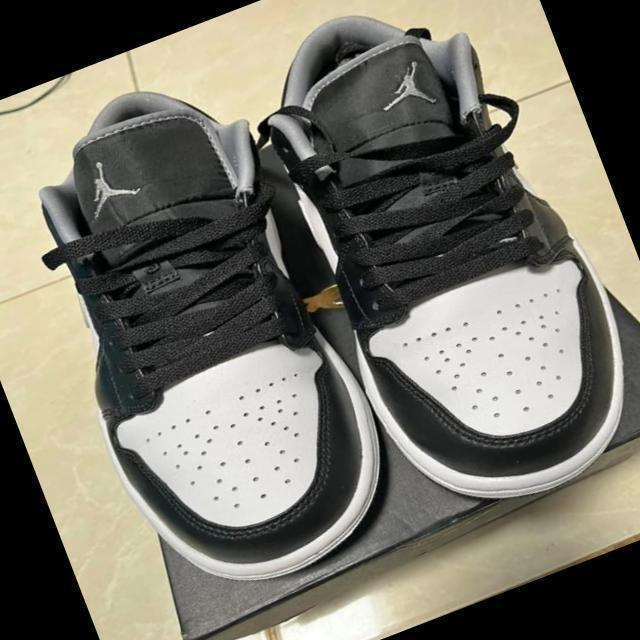nike original jordan 1: (0, 58, 415, 619), (231, 0, 640, 544)
